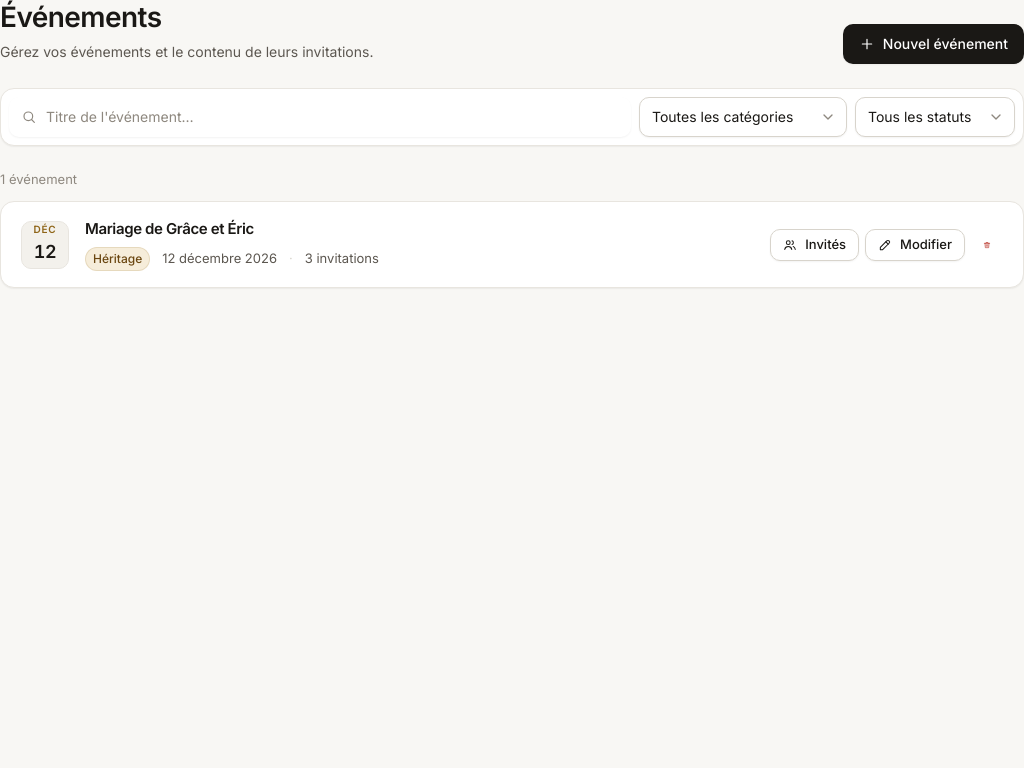
EventsPage › explains when deletion is blocked by existing invitations
The width and height of the screenshot is (1024, 768).
Click the button named "Supprimer": (987, 244) [971,228,1003,260]
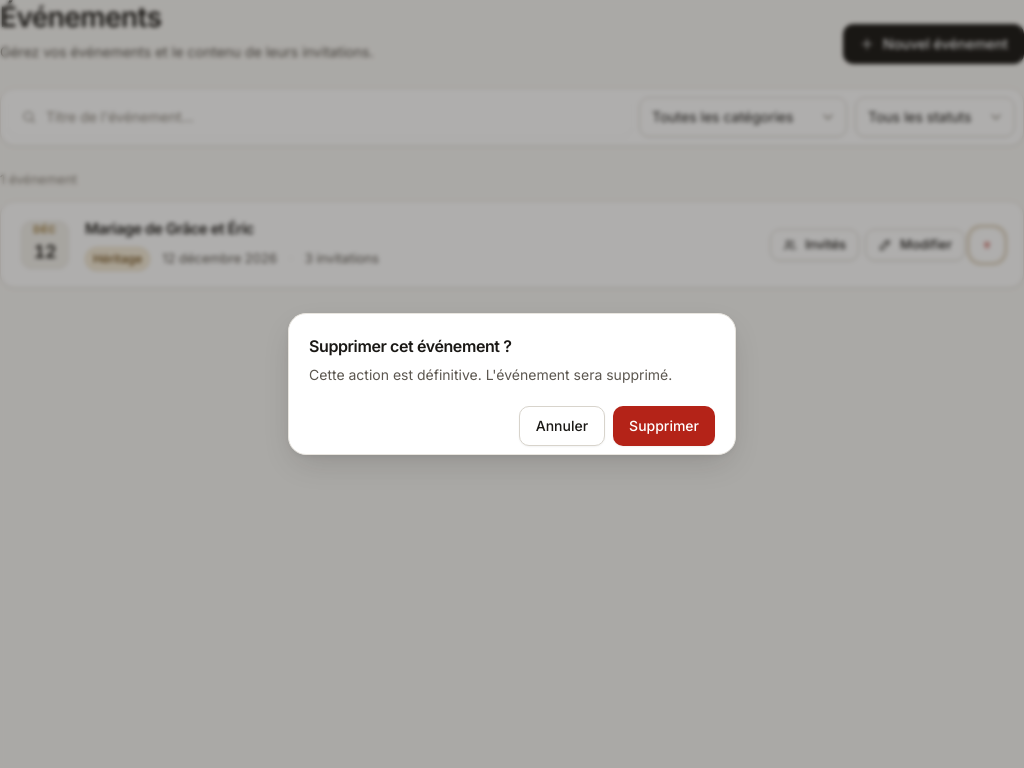
Click the button "Supprimer": (664, 426) [613,406,715,446]
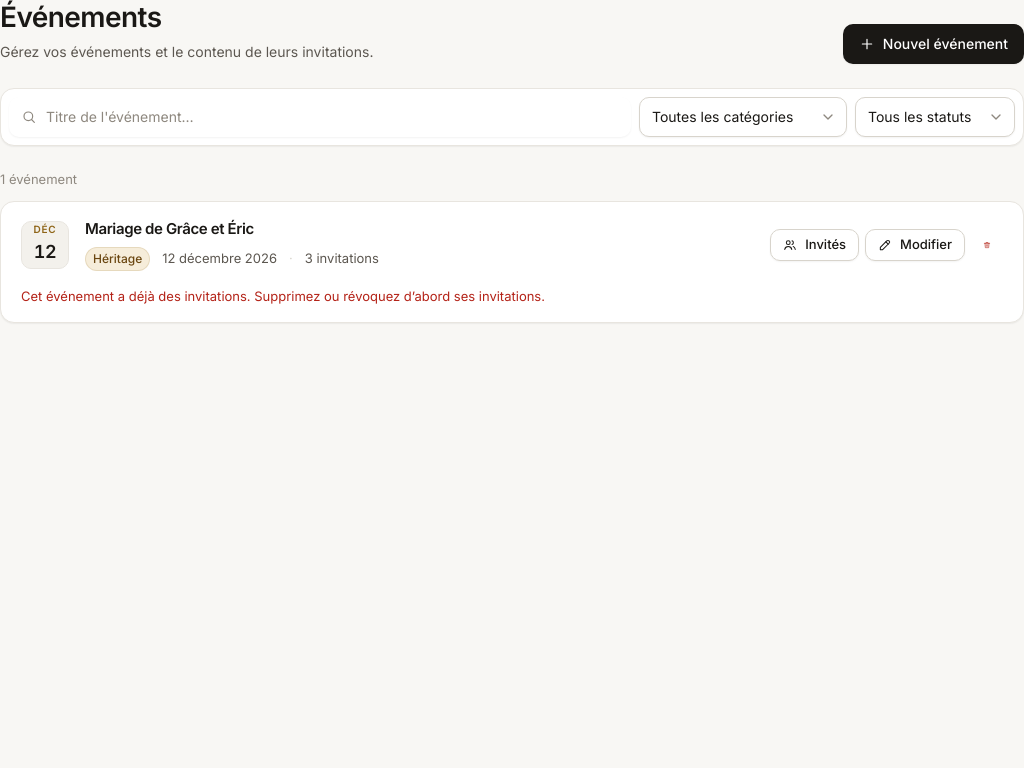
Expected: the heading "Mariage de Grâce et Éric" is shown, [85,218,254,241]
Result: the text "a déjà des invitations" is shown at [21,288,545,304]
